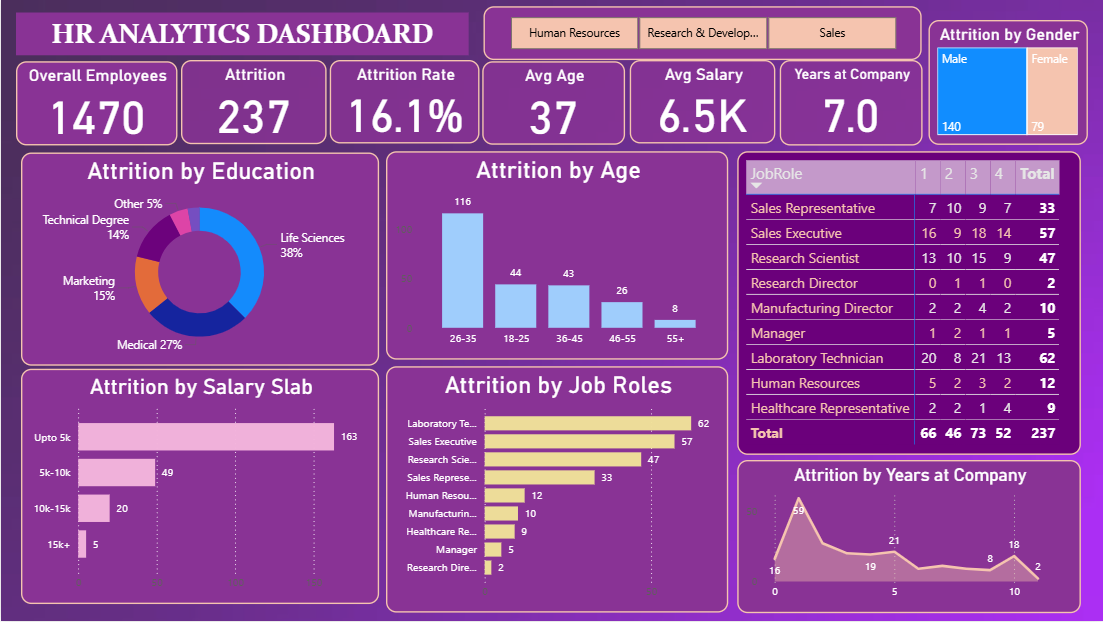

Layout of this report page (visuals, bound fields, positions):
{"tool":"powerbi","page":{"name":"Page 1","canvas":[1280,720],"ordinal":0},"visuals":[{"type":"card","title":"Overall Employees","fields":{"Values":["Count(HR_ dataset.EmpID)"]},"box":[16.9,71.2,187,97.7],"z":0},{"type":"card","title":"Attrition","fields":{"Values":["Sum(HR_ dataset.AttrititionCount)"]},"box":[208.7,70,168.9,97.7],"z":1000},{"type":"card","title":"Attrition Rate","fields":{"Values":["HR_ dataset.AttritionRate"]},"box":[381.2,70,173.7,96.5],"z":2000},{"type":"card","title":"Avg Age","fields":{"Values":["Avg(HR_ dataset.Age)"]},"box":[558.6,71.2,165.3,96.5],"z":3000},{"type":"card","title":"Avg Salary","fields":{"Values":["Avg(HR_ dataset.MonthlyIncome)"]},"box":[728.7,70,168.9,96.5],"z":4000},{"type":"card","title":"Years at Company","fields":{"Values":["Avg(HR_ dataset.YearsAtCompany)"]},"box":[902.4,70,165.3,98.9],"z":5000},{"type":"donutChart","title":"Attrition by Education","fields":{"Category":["HR_ dataset.EducationField"],"Y":["Sum(HR_ dataset.AttrititionCount)"]},"box":[22.9,177.3,415,247.3],"z":6000},{"type":"columnChart","title":"Attrition by Age","fields":{"Category":["HR_ dataset.AgeGroup"],"Y":["Sum(HR_ dataset.AttrititionCount)"]},"box":[446.4,174.9,396.9,241.3],"z":7000},{"type":"pivotTable","fields":{"Rows":["HR_ dataset.JobRole"],"Columns":["HR_ dataset.JobSatisfaction"],"Values":["Sum(HR_ dataset.AttrititionCount)"]},"box":[854.2,174.9,398.1,352.3],"z":8000},{"type":"barChart","title":"Attrition by Salary Slab","fields":{"Category":["HR_ dataset.SalarySlab"],"Y":["Sum(HR_ dataset.AttrititionCount)"]},"box":[22.9,427.1,415,272.7],"z":9000},{"type":"barChart","title":"Attrition by Job Roles","fields":{"Category":["HR_ dataset.JobRole"],"Y":["Sum(HR_ dataset.AttrititionCount)"]},"box":[446.4,424.7,396.9,285.9],"z":10000},{"type":"areaChart","title":"Attrition by Years at Company","fields":{"Category":["HR_ dataset.YearsAtCompany"],"Y":["Sum(HR_ dataset.AttrititionCount)"]},"box":[854.2,533.2,398.1,177.3],"z":11000},{"type":"treemap","title":"Attrition by Gender","fields":{"Group":["HR_ dataset.Gender"],"Values":["Sum(HR_ dataset.AttrititionCount)"]},"box":[1074.9,22.9,184.6,144.8],"z":12000},{"type":"slicer","fields":{"Values":["HR_ dataset.Department"]},"box":[559.8,7.2,507.9,62.7],"z":13000},{"type":"textbox","box":[16.9,14.5,524.8,49.5],"z":14000}]}

Visuals, with their boxes in screenshot pixels (x1, y1, x2, y2), scaled from the page's 1280x720 canvas onto the 1103x622 screenshot:
"Overall Employees" card: pyautogui.locateOnScreen(15, 62, 176, 146)
"Attrition" card: pyautogui.locateOnScreen(180, 60, 325, 145)
"Attrition Rate" card: pyautogui.locateOnScreen(328, 60, 478, 144)
"Avg Age" card: pyautogui.locateOnScreen(481, 62, 624, 145)
"Avg Salary" card: pyautogui.locateOnScreen(628, 60, 773, 144)
"Years at Company" card: pyautogui.locateOnScreen(778, 60, 920, 146)
"Attrition by Education" donutChart: pyautogui.locateOnScreen(20, 153, 377, 367)
"Attrition by Age" columnChart: pyautogui.locateOnScreen(385, 151, 727, 360)
pivotTable - HR_ dataset.JobRole x HR_ dataset.JobSatisfaction: pyautogui.locateOnScreen(736, 151, 1079, 455)
"Attrition by Salary Slab" barChart: pyautogui.locateOnScreen(20, 369, 377, 605)
"Attrition by Job Roles" barChart: pyautogui.locateOnScreen(385, 367, 727, 614)
"Attrition by Years at Company" areaChart: pyautogui.locateOnScreen(736, 461, 1079, 614)
"Attrition by Gender" treemap: pyautogui.locateOnScreen(926, 20, 1085, 145)
slicer - HR_ dataset.Department: pyautogui.locateOnScreen(482, 6, 920, 60)
textbox: pyautogui.locateOnScreen(15, 13, 467, 55)
